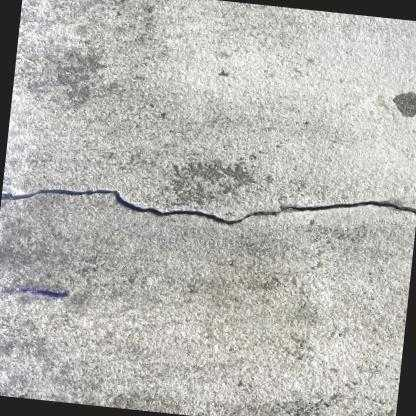crack: (0, 189, 416, 224)
